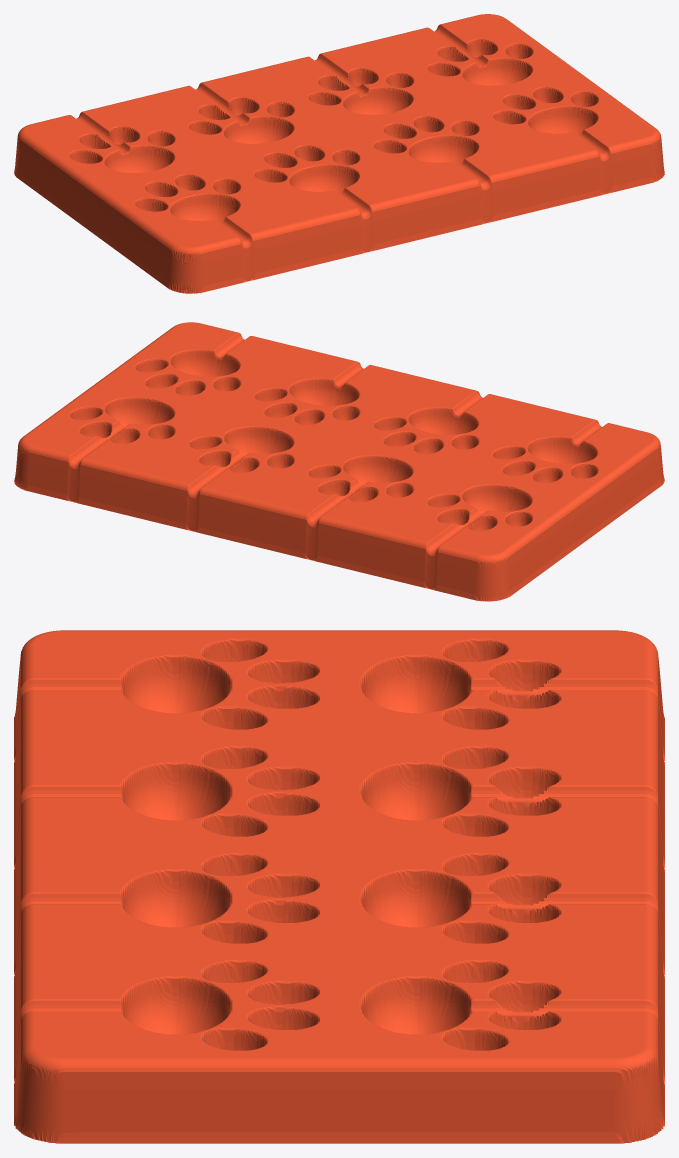
The model's file is mold.glb.
The picture shows the model from 3 angles, top to bottom: view 1: azimuth 30°, elevation 25°; view 2: azimuth 150°, elevation 25°; view 3: azimuth 270°, elevation 25°; orthographic projection. The views are drawn at different scales.
Visible parts, largest first — view 1: geometry_0; view 2: geometry_0; view 3: geometry_0.
Boxes of the visible parts, left/top/right/bottom form: geometry_0: left=14, top=14, right=664, bottom=293; geometry_0: left=14, top=322, right=664, bottom=601; geometry_0: left=14, top=630, right=664, bottom=1143.
Bounding box in the file's own units: 0.1907 × 0.0155 × 0.1184.
